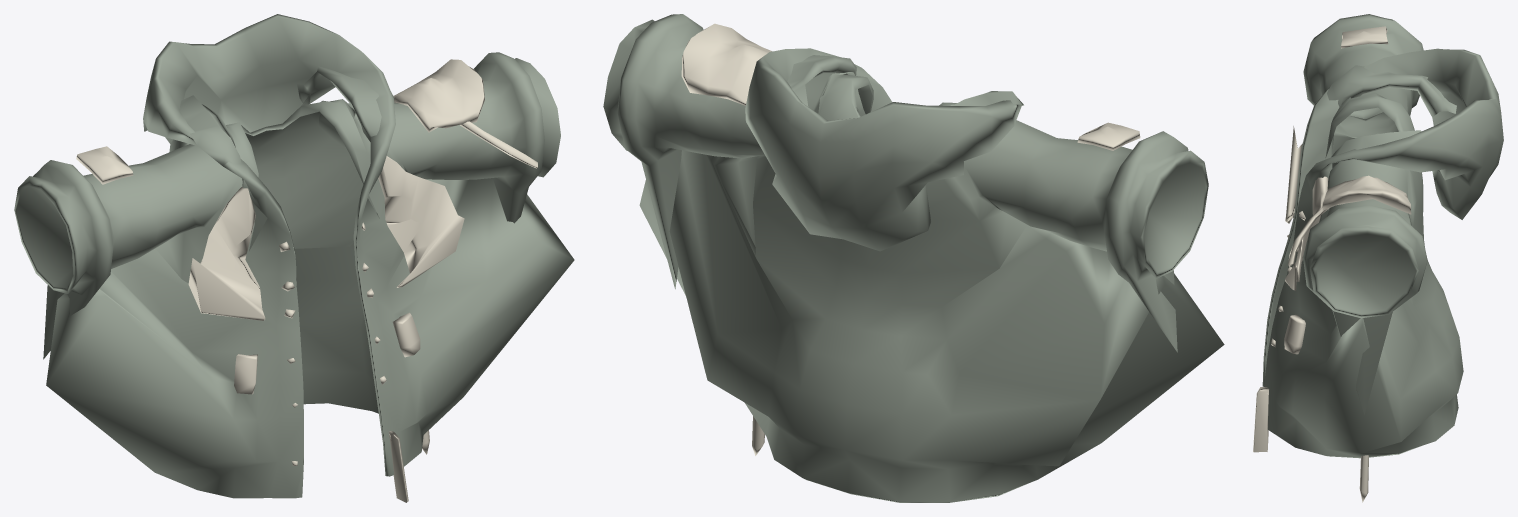
Rendered from hood-parka-only.glb.
The picture shows the model from 3 angles, left to right: view 1: azimuth 30°, elevation 25°; view 2: azimuth 150°, elevation 25°; view 3: azimuth 270°, elevation 25°; orthographic projection. The views are drawn at different scales.
Visible parts, largest first — view 1: Apparel_hood-parka_0, Apparel_hood-parka_1; view 2: Apparel_hood-parka_0, Apparel_hood-parka_1; view 3: Apparel_hood-parka_0, Apparel_hood-parka_1.
Boxes of the visible parts, left/top/right/bottom form: Apparel_hood-parka_0: left=14, top=14, right=574, bottom=498; Apparel_hood-parka_1: left=76, top=59, right=537, bottom=502; Apparel_hood-parka_0: left=603, top=14, right=1224, bottom=502; Apparel_hood-parka_1: left=681, top=23, right=1140, bottom=455; Apparel_hood-parka_0: left=1262, top=14, right=1503, bottom=458; Apparel_hood-parka_1: left=1253, top=26, right=1411, bottom=502.
Bounding box in the file's own units: 2.94 × 2.2 × 1.36.
